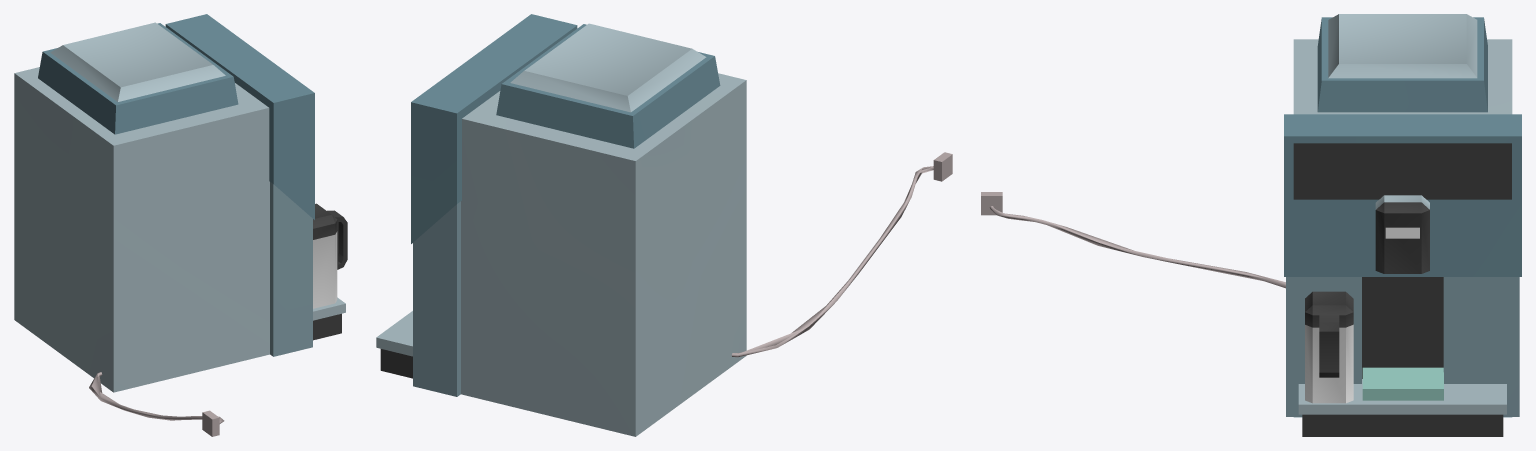
Rendered from coffee_machine_001.fbx.
3 views of the same model, side by side, from view 1: azimuth 30°, elevation 25°; view 2: azimuth 150°, elevation 25°; view 3: azimuth 270°, elevation 25° (orthographic). The views are drawn at different scales.
Visible parts, largest first — view 1: coffee_machine_001; view 2: coffee_machine_001; view 3: coffee_machine_001, coffee_machine_support.
Boxes of the visible parts, bbox=[...] form: coffee_machine_001: bbox=[14, 14, 347, 436]; coffee_machine_001: bbox=[376, 14, 952, 436]; coffee_machine_001: bbox=[981, 14, 1521, 436]; coffee_machine_support: bbox=[1362, 367, 1443, 400].
Size of the model in its own units: 81.17 by 76.21 by 119.
Materials: 2 (1 with a texture image).
